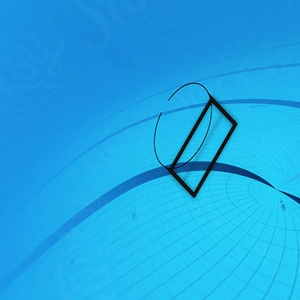circle: (152, 83, 239, 199)
